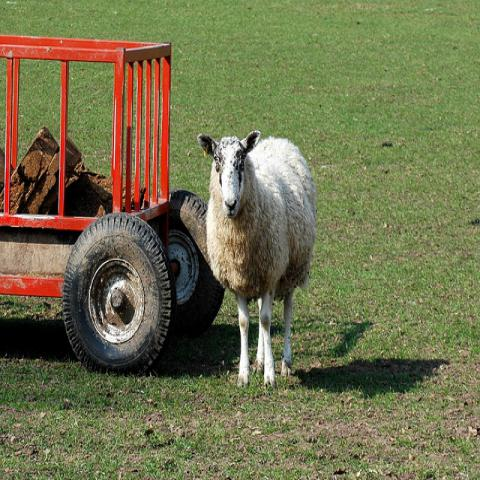truck: (1, 30, 230, 386)
